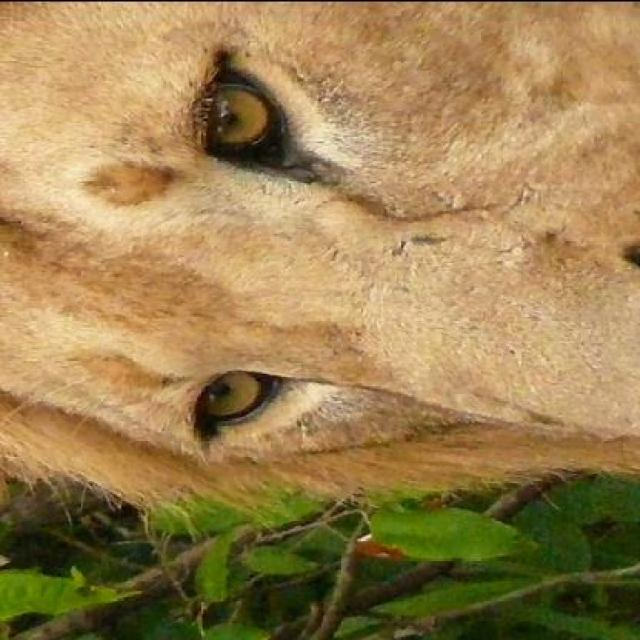Lion: (12, 5, 638, 557)
